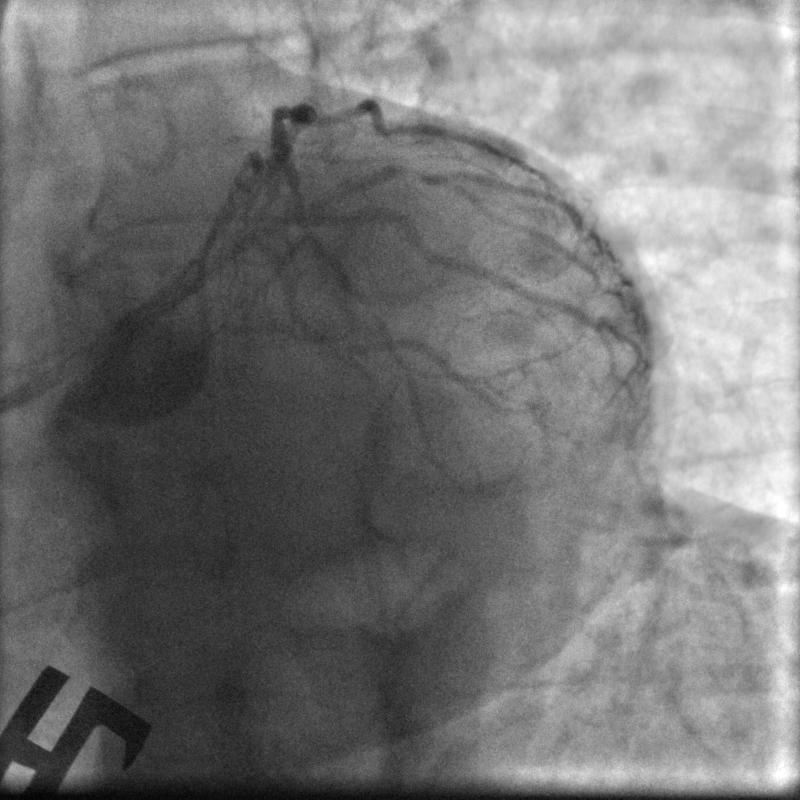Stenosis: (379, 161, 437, 183)
